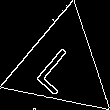L_NE: (34, 37, 89, 95)
